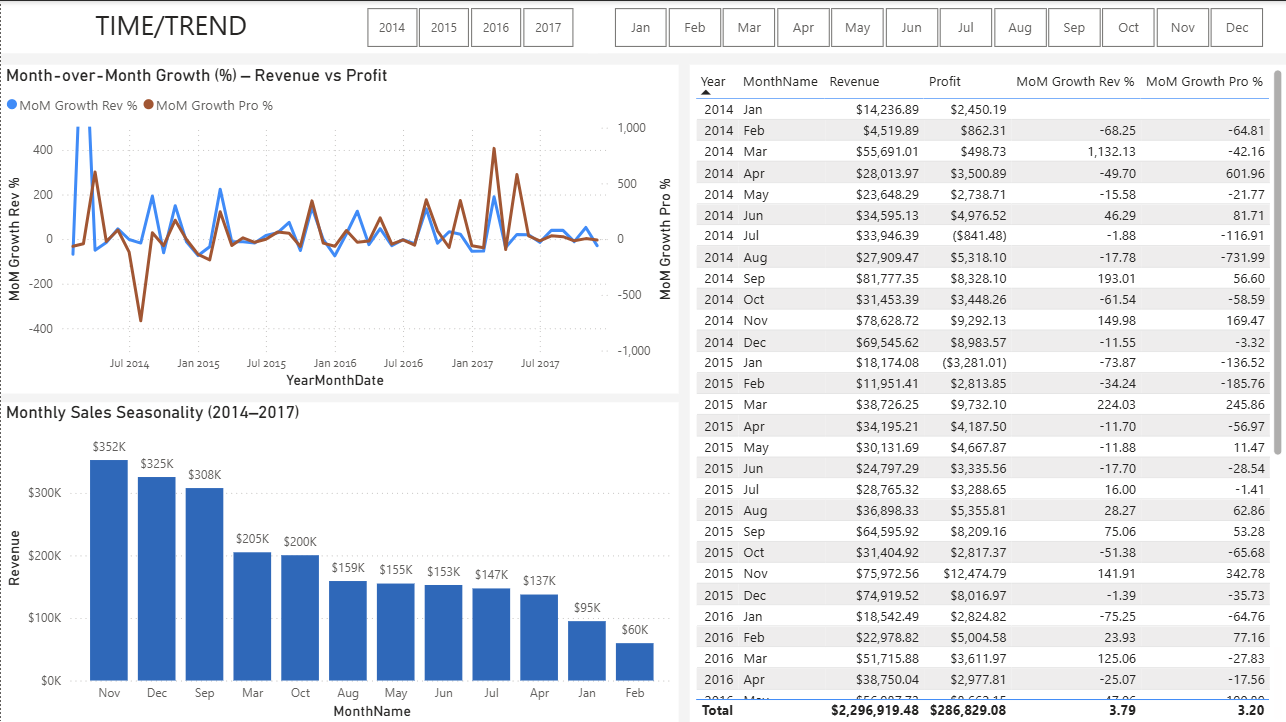

Layout of this report page (visuals, bound fields, positions):
{"tool":"powerbi","page":{"name":"TIME/TREND","canvas":[1280,720],"ordinal":6},"visuals":[{"type":"textbox","box":[0,0,338.4,52.2],"z":0},{"type":"slicer","fields":{"Values":["Date.MonthName"]},"box":[584.6,0,695.4,52.2],"z":1000},{"type":"slicer","fields":{"Values":["Date.Date Hierarchy.Year"]},"box":[338.4,0,255,52.2],"z":2000},{"type":"lineChart","title":"Month-over-Month Growth (%) – Revenue vs Profit","fields":{"Y":["Measures (2).MoM Growth Rev %"],"Y2":["Measures (2).MoM Growth Pro %"],"Category":["Date.YearMonthDate"]},"box":[0,63.4,674.2,327.2],"z":2001},{"type":"tableEx","fields":{"Values":["Date.Date Hierarchy.Year","Date.Date Hierarchy.MonthName","Measures (2).Revenue","Measures (2).Profit","Measures (2).MoM GROWTH REV %","Measures (2).MoM Growth Pro %"]},"box":[685.4,63.4,594.6,656.8],"z":2002},{"type":"columnChart","title":"Monthly Sales Seasonality (2014–2017)","fields":{"Category":["Date.MonthName"],"Y":["Measures (2).Revenue"]},"box":[0,399.3,674.2,320.9],"z":2003}]}

Visuals, with their boxes in screenshot pixels (x1, y1, x2, y2), scaled from the page's 1280x720 canvas onto the 1286x722 screenshot:
textbox: rect(0, 0, 340, 52)
slicer - Date.MonthName: rect(587, 0, 1285, 52)
slicer - Date.Date Hierarchy.Year: rect(340, 0, 596, 52)
"Month-over-Month Growth (%) – Revenue vs Profit" lineChart: rect(0, 64, 677, 392)
tableEx - Date.Date Hierarchy.Year x Date.Date Hierarchy.MonthName: rect(689, 64, 1285, 721)
"Monthly Sales Seasonality (2014–2017)" columnChart: rect(0, 400, 677, 721)
